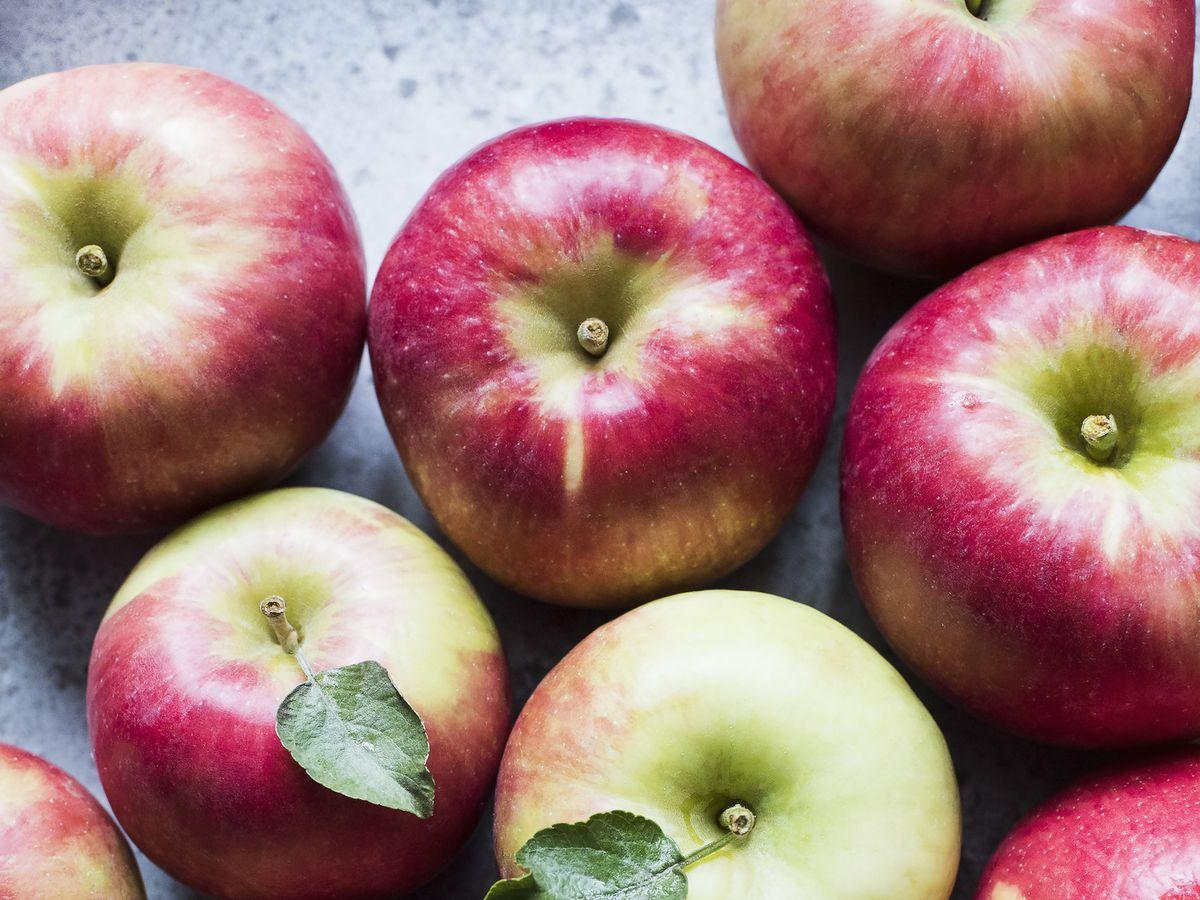apple: (391, 139, 821, 577), (817, 245, 1200, 724), (487, 567, 956, 900), (87, 519, 499, 886), (9, 79, 357, 510), (721, 0, 1194, 222)
